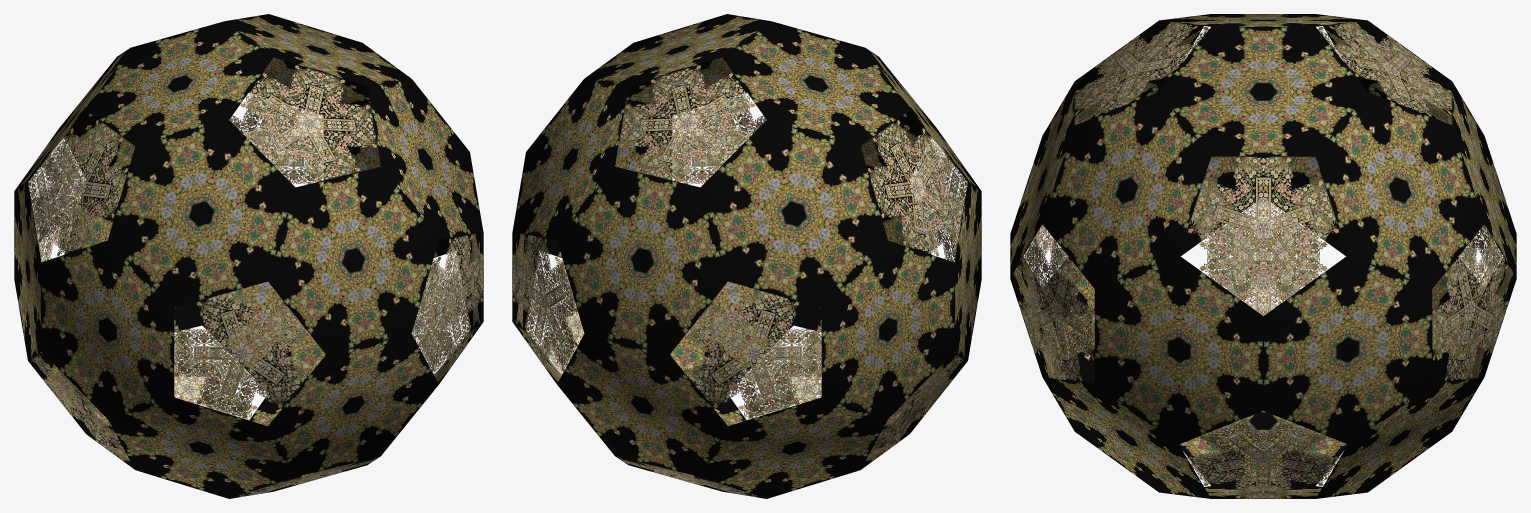
Rendered from TruncatedIcosahedron4.gltf.
3 views of the same model, side by side, from view 1: azimuth 30°, elevation 25°; view 2: azimuth 150°, elevation 25°; view 3: azimuth 270°, elevation 25° (orthographic). The views are drawn at different scales.
Parts seen in each view (by area): view 1: TruncatedIcosahedron; view 2: TruncatedIcosahedron; view 3: TruncatedIcosahedron.
Part boxes in pixels (bbox=[...]): TruncatedIcosahedron: bbox=[14, 14, 483, 498]; TruncatedIcosahedron: bbox=[512, 14, 981, 498]; TruncatedIcosahedron: bbox=[1010, 14, 1516, 498].
Bounding box in the file's own units: 4.85 × 4.85 × 4.85.
Materials: 2 (2 with a texture image).
